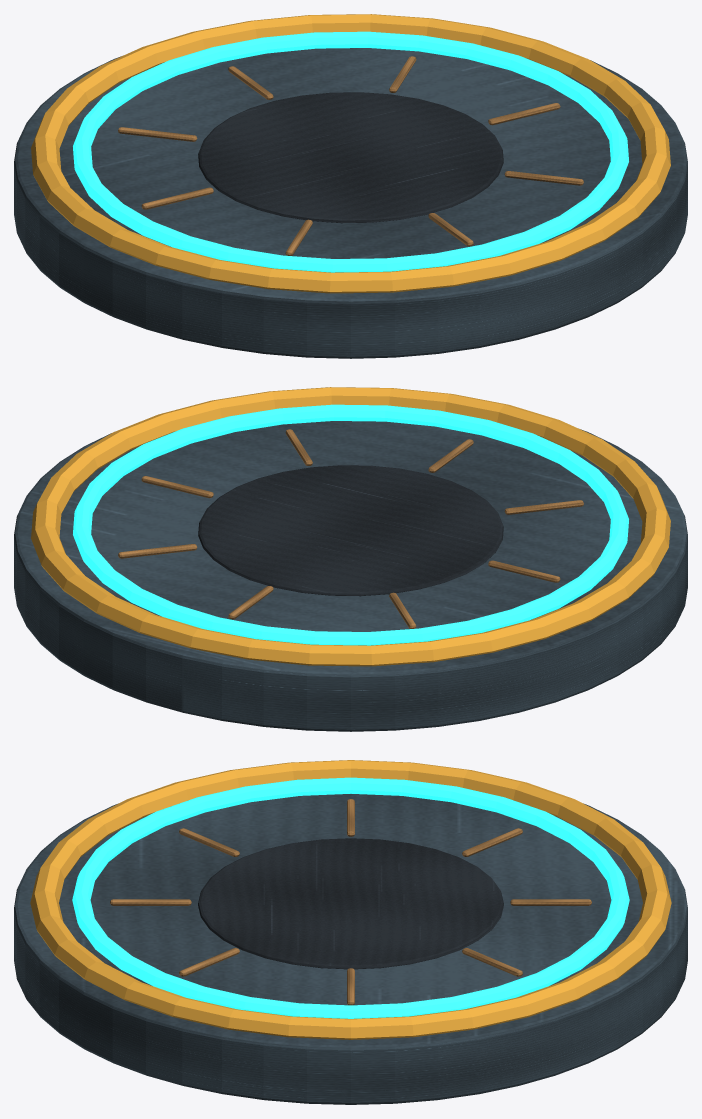
The model's file is lift.glb.
The picture shows the model from 3 angles, top to bottom: view 1: azimuth 30°, elevation 25°; view 2: azimuth 150°, elevation 25°; view 3: azimuth 270°, elevation 25°; orthographic projection.
Visible parts, largest first — view 1: lift; view 2: lift; view 3: lift.
Part boxes in pixels (box(x1,y1,x2,y2)): lift: box(14, 14, 687, 358); lift: box(14, 387, 687, 731); lift: box(14, 760, 687, 1104).
Size of the model in its own units: 3.3 by 0.4 by 3.3.
Materials: 5 (3 with a texture image).
